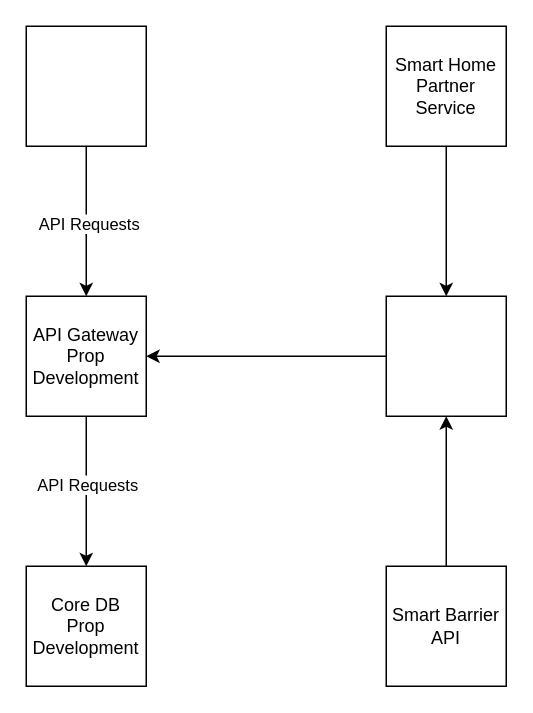
This 533x713 diagram has some shape labels left out. Here are the shapes that lost their labels. From the top down, the centre of each, then its label:
point (85, 85): Mobile APP
point (445, 355): Smart Intercom API
